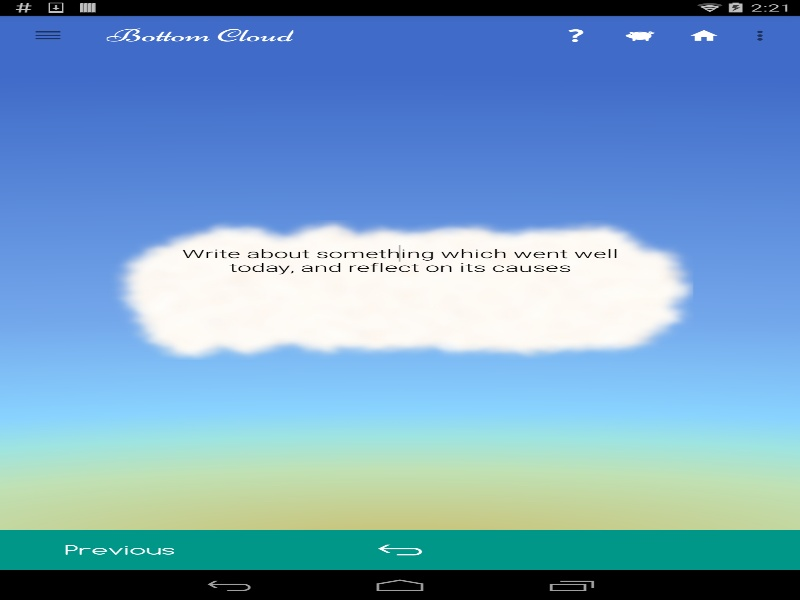Button: (0, 530, 240, 570), (560, 530, 800, 570), (10, 15, 85, 55)
Input: (106, 220, 693, 360)
